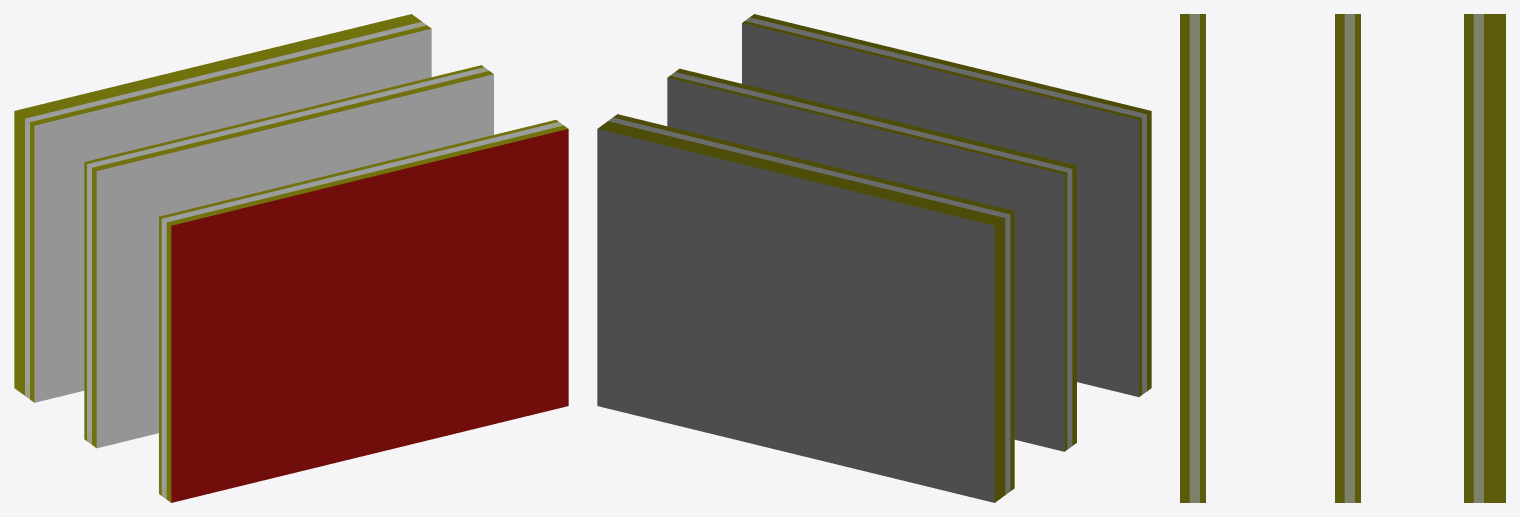
File: idf.obj
The picture shows the model from 3 angles, left to right: view 1: azimuth 30°, elevation 25°; view 2: azimuth 150°, elevation 25°; view 3: azimuth 270°, elevation 25°; orthographic projection. The views are drawn at different scales.
Size of the model in its own units: 73.11 by 48.74 by 50.
